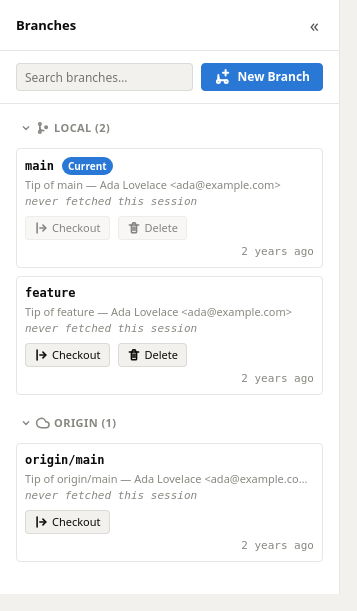
Test: BranchesPanel card drag-to-merge › A ancestor of B disables the item with 'Already up to date'
Expected: the text "Local (2)" is shown, [54,120,110,136]
Press the mouse on the list item that starts with "feature" at (170, 336), box [16,276,323,395]
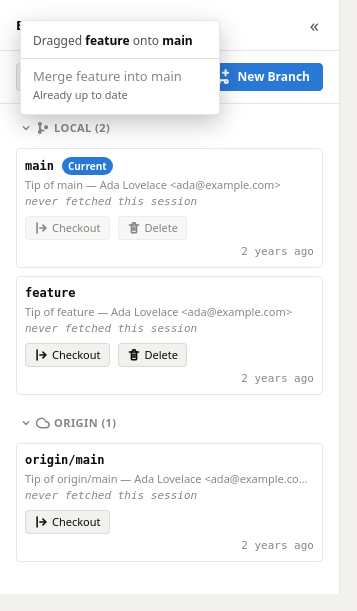
Now the menu item "Merge feature into main" is disabled, box [21,59,219,110]
